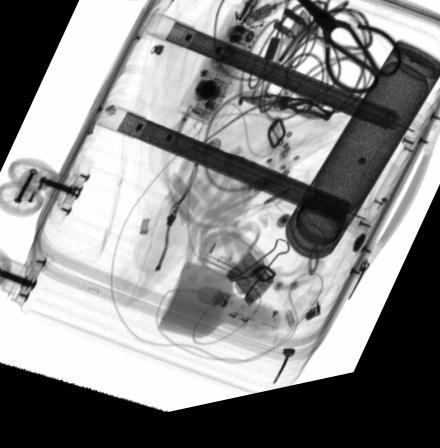Knife: (240, 106, 335, 135)
Scissors: (283, 0, 403, 111)
